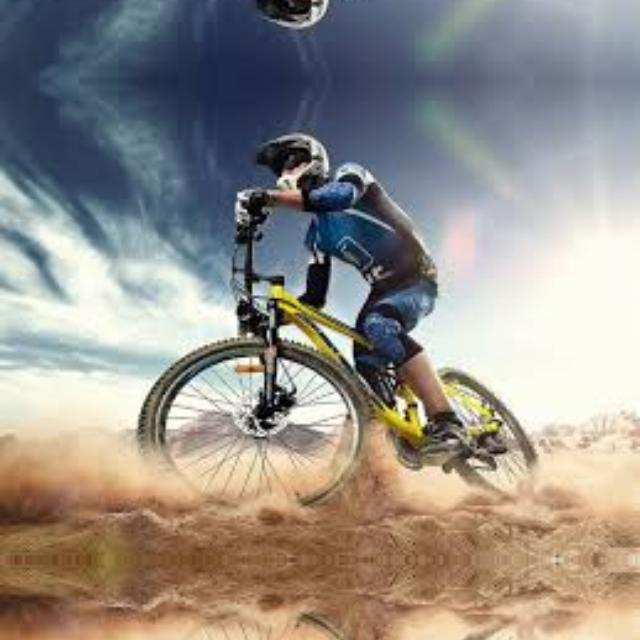obstacle: (120, 218, 538, 550), (120, 569, 537, 640)
